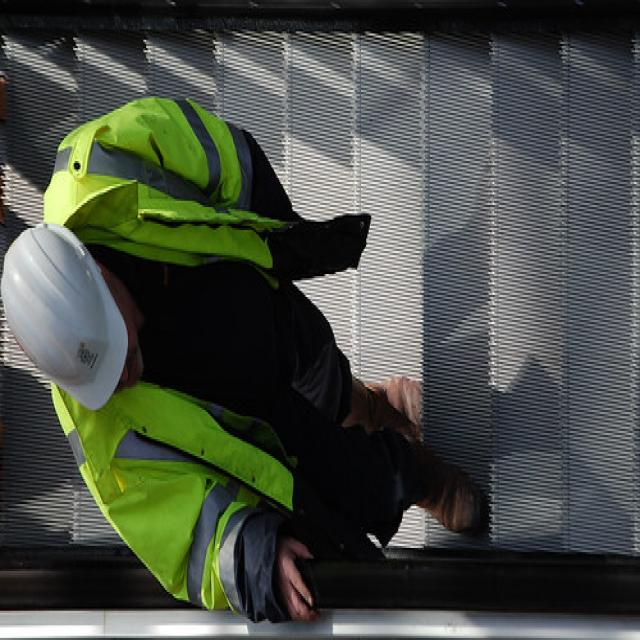Reflective-Jacket: (49, 96, 338, 619)
Safety-Helmet: (0, 224, 127, 410)
